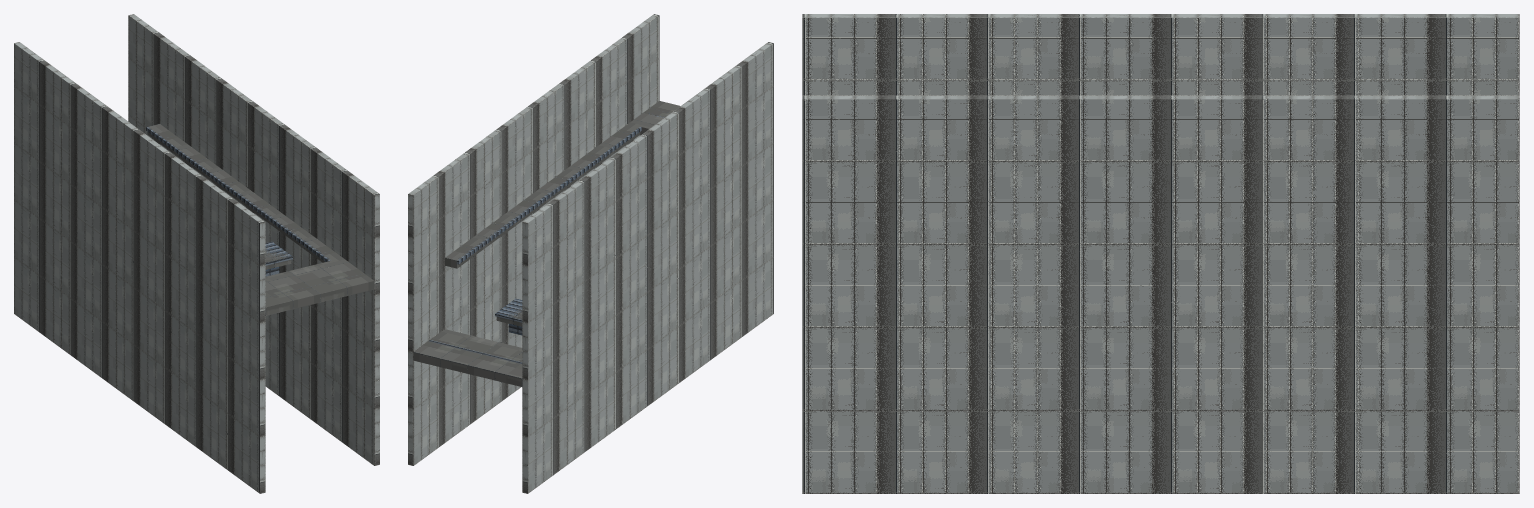
The model's file is shell_path_ascent.glb.
3 renders of one model, left to right at view 1: azimuth 30°, elevation 25°; view 2: azimuth 150°, elevation 25°; view 3: azimuth 270°, elevation 25°, orthographic. The views are drawn at different scales.
Parts seen in each view (by area): view 1: shell_path_ascent; view 2: shell_path_ascent; view 3: shell_path_ascent.
Part boxes in pixels (x1,y1,x2,y2): shell_path_ascent: (14,14,379,493); shell_path_ascent: (408,14,773,493); shell_path_ascent: (802,14,1519,493).
Bounding box in the file's own units: 8.8 × 19 × 31.3.
Materials: 25 (25 with a texture image).
